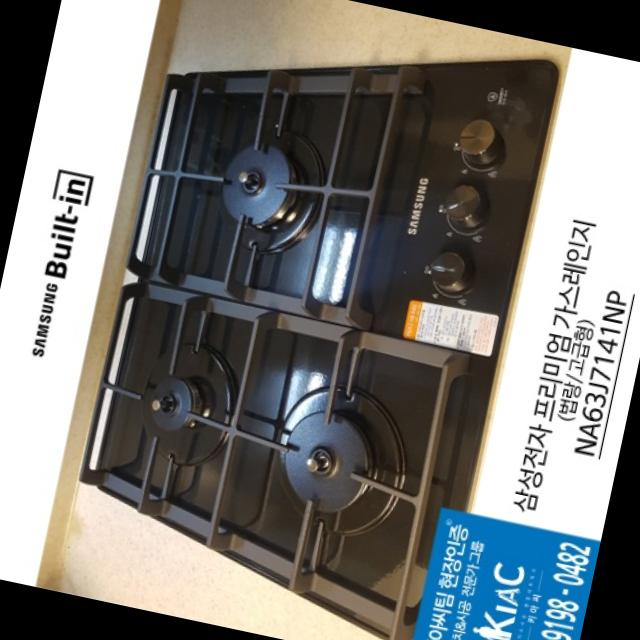knob_OFF: (245, 365, 408, 593), (154, 100, 334, 302), (140, 291, 257, 543)
